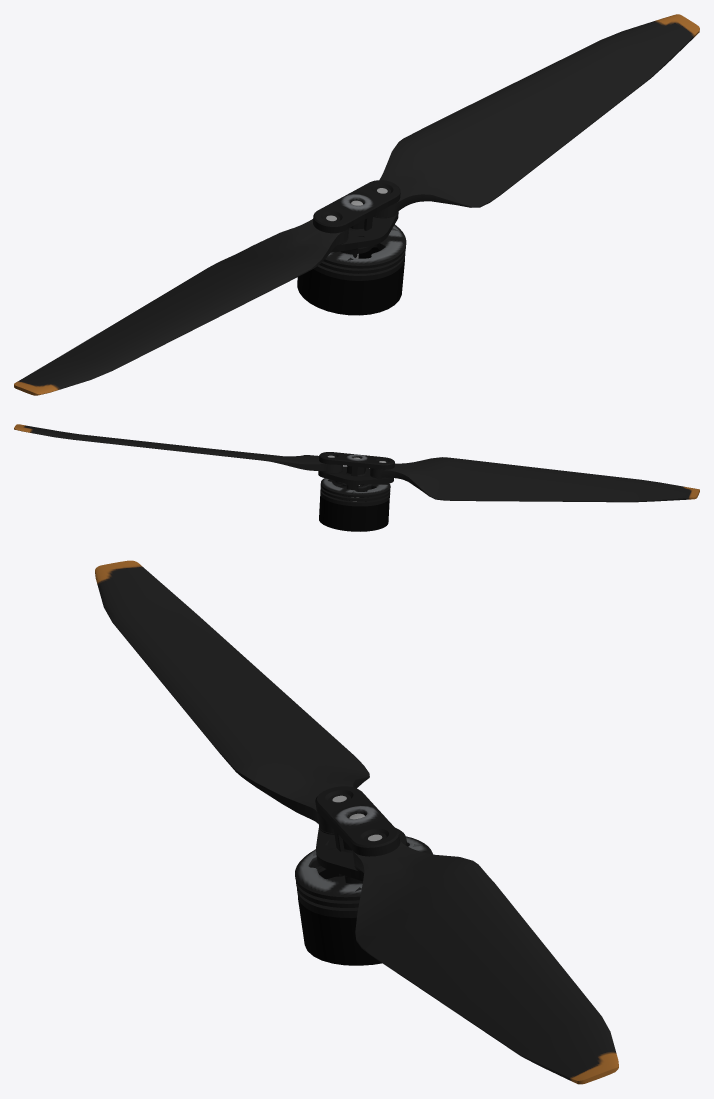
The model's file is motor_rf.dae.
The picture shows the model from 3 angles, top to bottom: view 1: azimuth 30°, elevation 25°; view 2: azimuth 150°, elevation 25°; view 3: azimuth 270°, elevation 25°; orthographic projection. The views are drawn at different scales.
Parts seen in each view (by area): view 1: Blade1_05.001, Blade1_07.001, Blade1_08.001, Blade1_01.001, Blade1_10.001, Blade1_02.001; view 2: Blade1_07.001, Blade1_05.001, Blade1_01.001, Blade1_08.001, Blade1_10.001, Blade1_02.001, Blade1_09.001; view 3: Blade1_05.001, Blade1_07.001, Blade1_08.001, Blade1_01.001, Blade1_10.001.
Boxes of the visible parts, box(x1,y1,x2,y2) form: Blade1_05.001: box(373, 14, 699, 217); Blade1_07.001: box(14, 215, 348, 395); Blade1_08.001: box(313, 180, 400, 257); Blade1_01.001: box(297, 247, 404, 315); Blade1_10.001: box(323, 224, 406, 268); Blade1_02.001: box(313, 254, 405, 280); Blade1_07.001: box(370, 457, 699, 502); Blade1_05.001: box(14, 424, 342, 472); Blade1_01.001: box(319, 485, 389, 531); Blade1_08.001: box(318, 452, 394, 491); Blade1_10.001: box(320, 478, 390, 497); Blade1_02.001: box(320, 483, 390, 506); Blade1_09.001: box(320, 486, 390, 501); Blade1_05.001: box(352, 836, 618, 1084); Blade1_07.001: box(95, 560, 369, 833); Blade1_08.001: box(315, 786, 407, 883); Blade1_01.001: box(298, 869, 381, 965); Blade1_10.001: box(295, 836, 432, 900).
Bounding box in the file's own units: 0.2254 × 0.0903 × 0.0283.
Materials: 1 (1 with a texture image).
